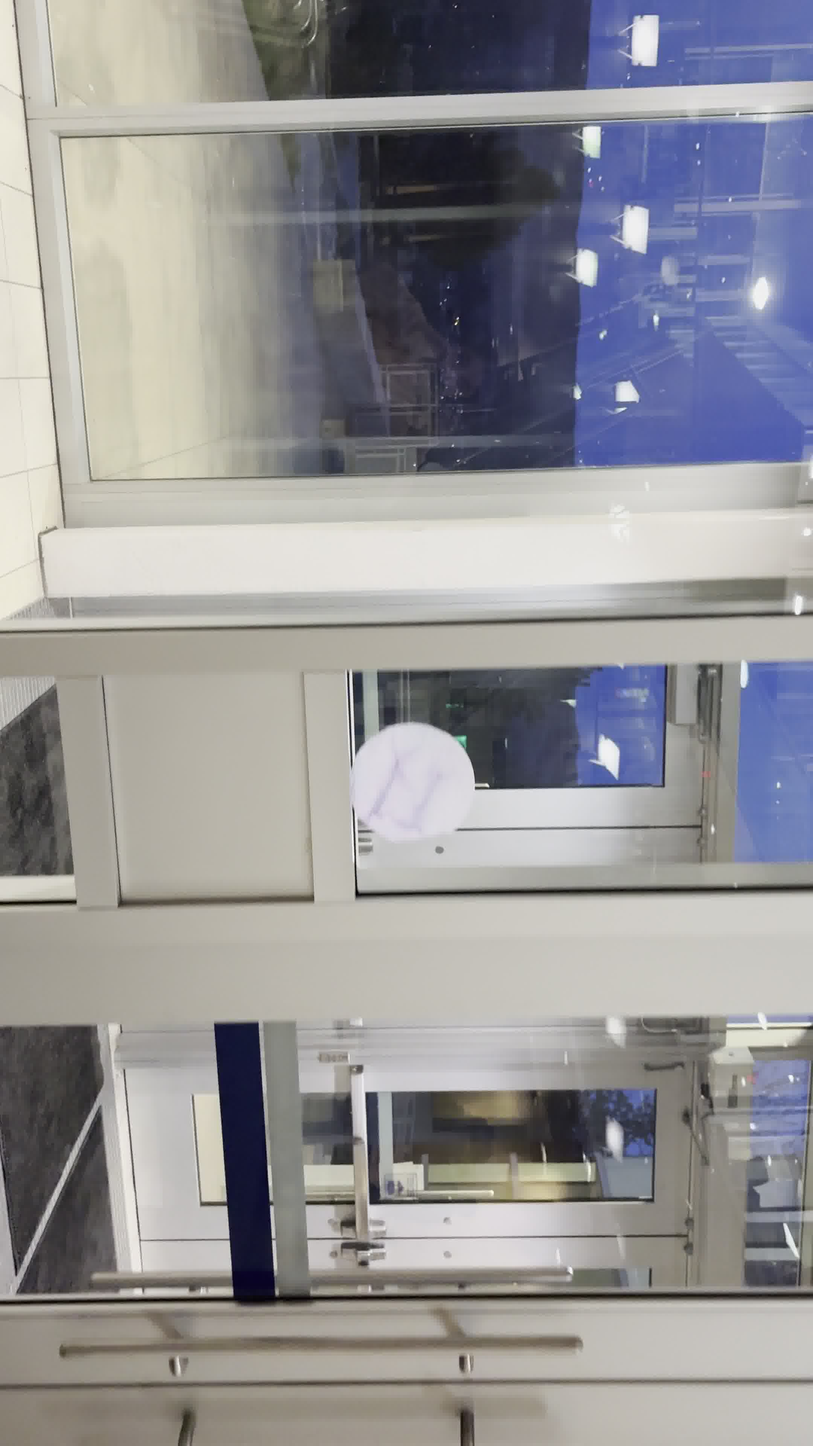Target: (347, 721, 477, 844)
